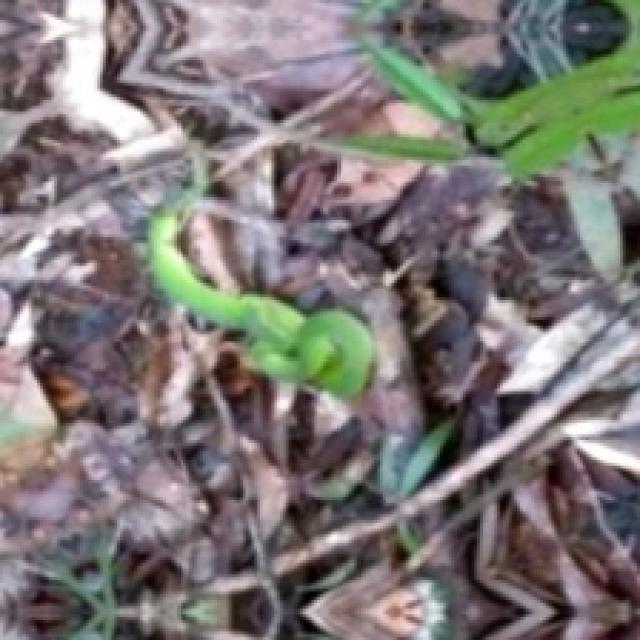north ph temple pitviper: (149, 209, 371, 394)
